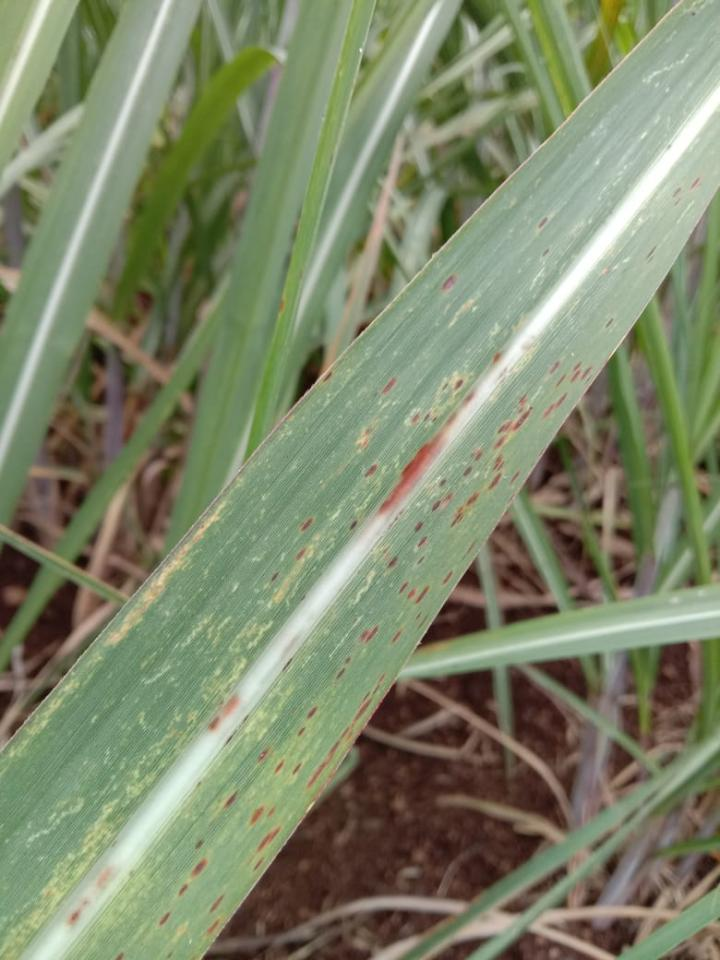RedRot: (374, 387, 475, 517), (207, 695, 238, 732), (97, 867, 111, 888), (68, 909, 81, 925), (82, 899, 88, 905)
Rust: (307, 690, 373, 788), (450, 491, 481, 529), (250, 826, 281, 864), (497, 406, 533, 435), (225, 714, 249, 745), (543, 391, 567, 419), (431, 493, 453, 513), (441, 377, 466, 394), (247, 804, 265, 827), (334, 657, 351, 681), (414, 584, 431, 605), (360, 626, 379, 643), (440, 273, 457, 292), (191, 858, 207, 877), (210, 893, 225, 913), (569, 361, 582, 384), (355, 429, 370, 448), (645, 243, 658, 264), (372, 673, 385, 694), (492, 435, 509, 451), (223, 791, 238, 809), (382, 377, 397, 395), (488, 472, 502, 490), (207, 918, 220, 936), (300, 516, 314, 532), (390, 627, 403, 643), (257, 748, 270, 763), (364, 463, 377, 478), (493, 453, 503, 472), (581, 365, 593, 380), (442, 570, 454, 585), (423, 412, 438, 424), (178, 882, 189, 898), (550, 359, 561, 374), (510, 470, 521, 485), (418, 614, 429, 629), (471, 448, 483, 461), (291, 762, 302, 776), (253, 857, 264, 871), (159, 912, 170, 926), (296, 546, 307, 560), (492, 350, 503, 364), (518, 396, 527, 413), (387, 556, 398, 569), (398, 581, 409, 594), (306, 706, 317, 719), (556, 373, 566, 387), (274, 760, 284, 774), (283, 658, 293, 672), (467, 540, 476, 555), (690, 177, 701, 189), (537, 217, 548, 229), (349, 518, 359, 531), (406, 588, 416, 600), (413, 521, 423, 532), (463, 465, 472, 477), (418, 535, 427, 547), (411, 413, 420, 424), (267, 806, 275, 818), (672, 188, 681, 198), (438, 478, 447, 488), (416, 555, 425, 565), (116, 950, 126, 959), (605, 318, 613, 329), (297, 726, 305, 737), (324, 371, 332, 382), (195, 840, 204, 849), (542, 247, 550, 257), (414, 612, 422, 621), (271, 572, 278, 582), (673, 198, 681, 206), (196, 781, 202, 787), (691, 11, 696, 16)
